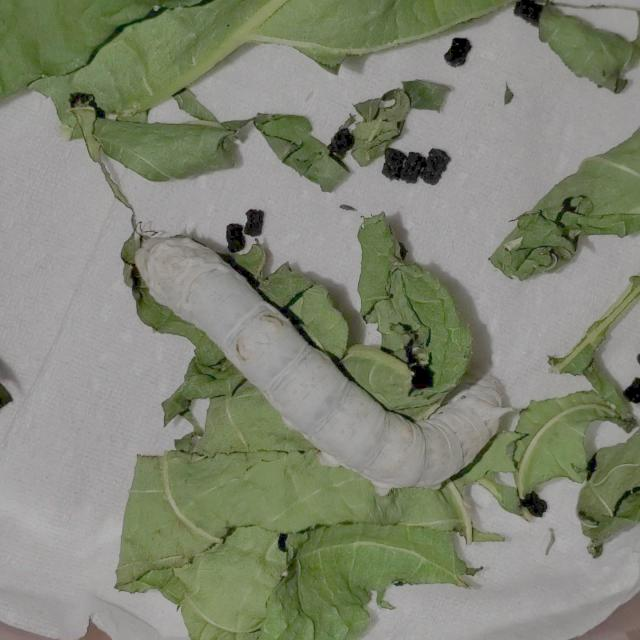Healthy: (92, 195, 532, 504)
